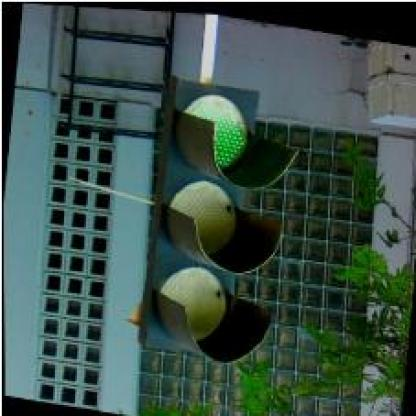green: (131, 69, 301, 367)
